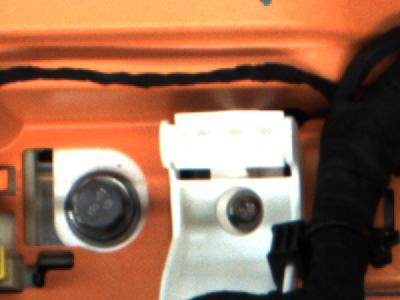nut_b: (58, 164, 150, 253)
